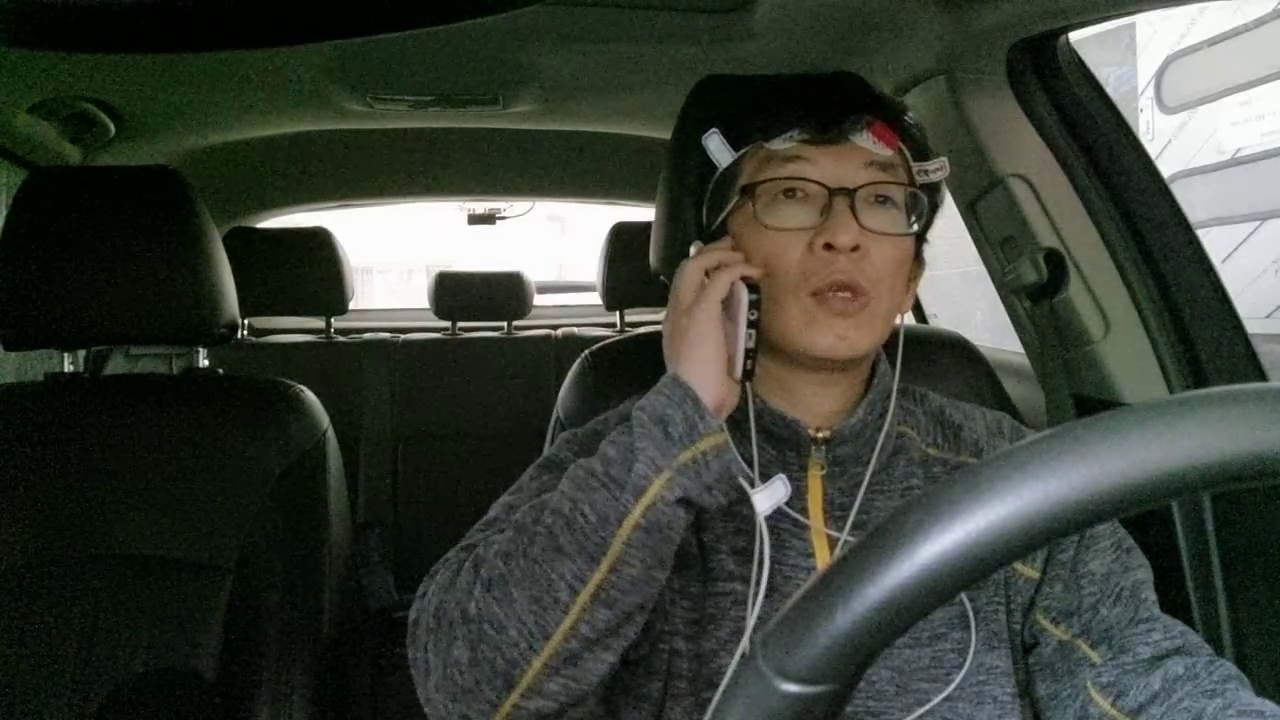phone: (634, 225, 806, 417)
